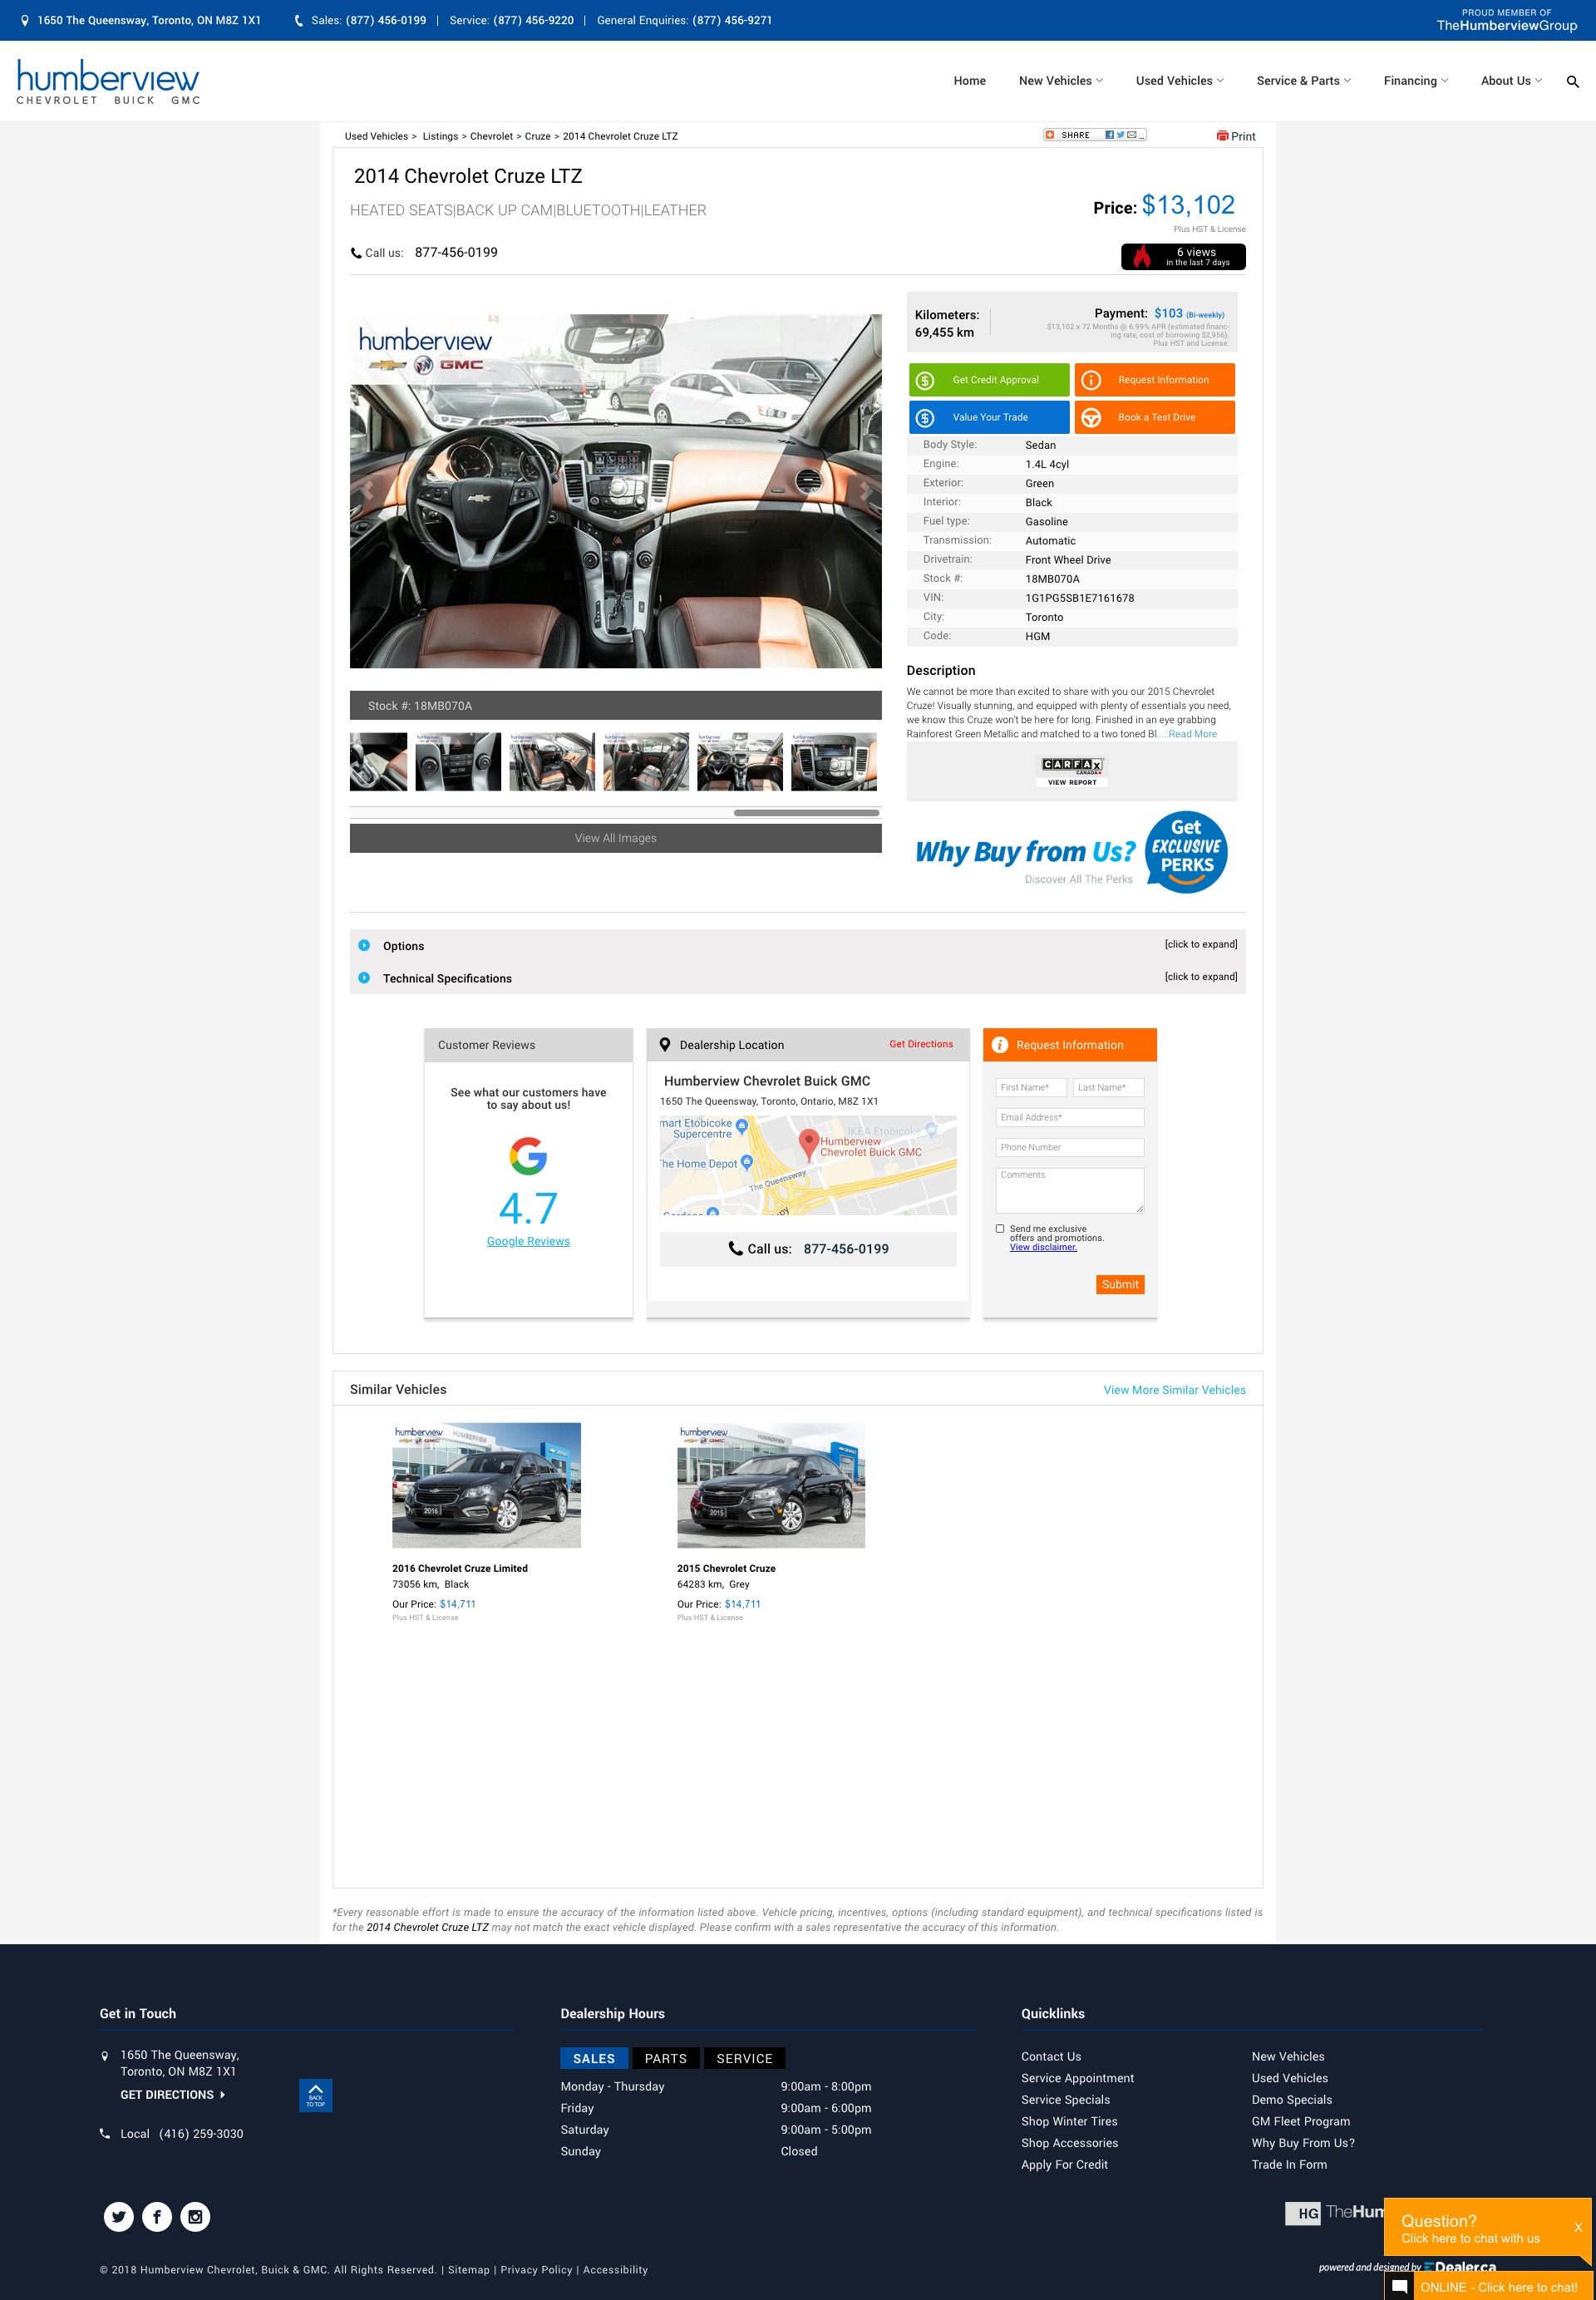car: (860, 481, 876, 502)
